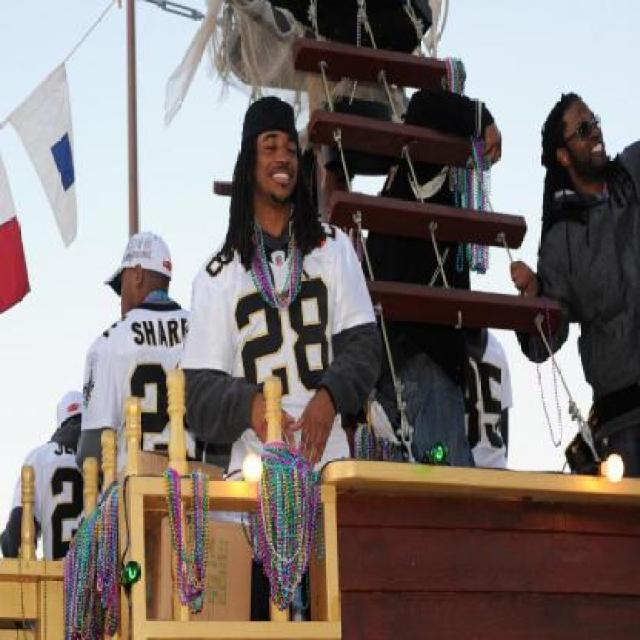Person: (177, 92, 386, 619), (508, 89, 638, 483), (76, 226, 202, 539), (1, 378, 87, 558), (462, 322, 512, 462)
